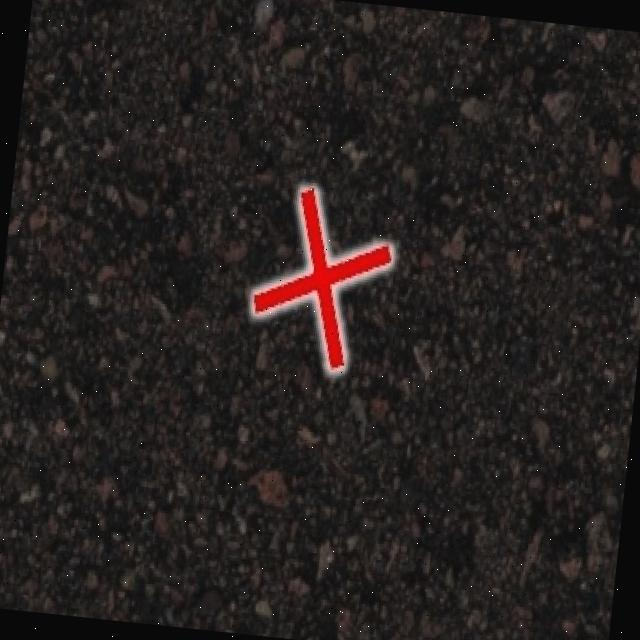x_marker: (246, 184, 396, 373)
